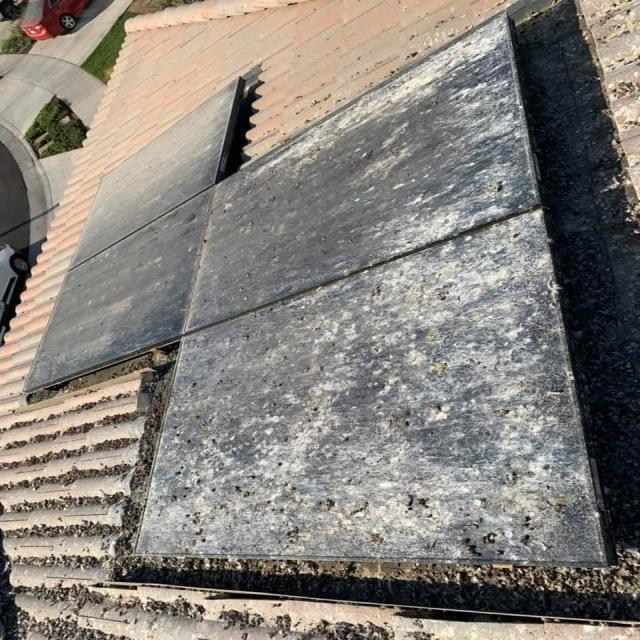Surface Contaminant: (26, 75, 236, 387)
